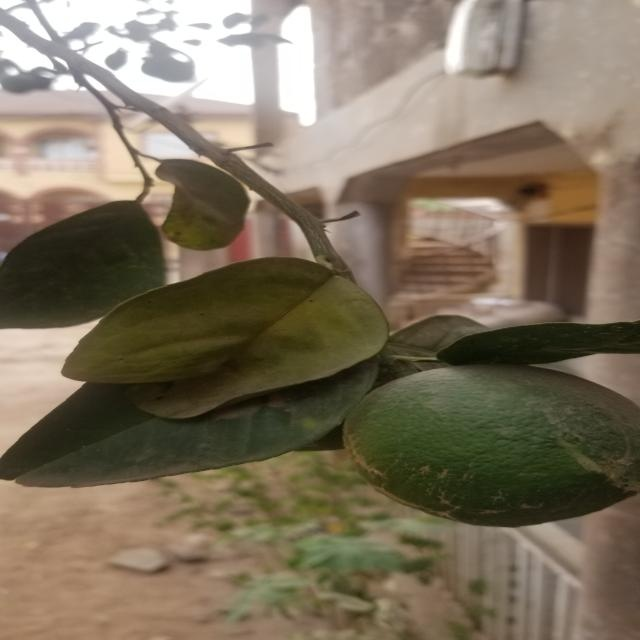agrume: (339, 361, 640, 525)
